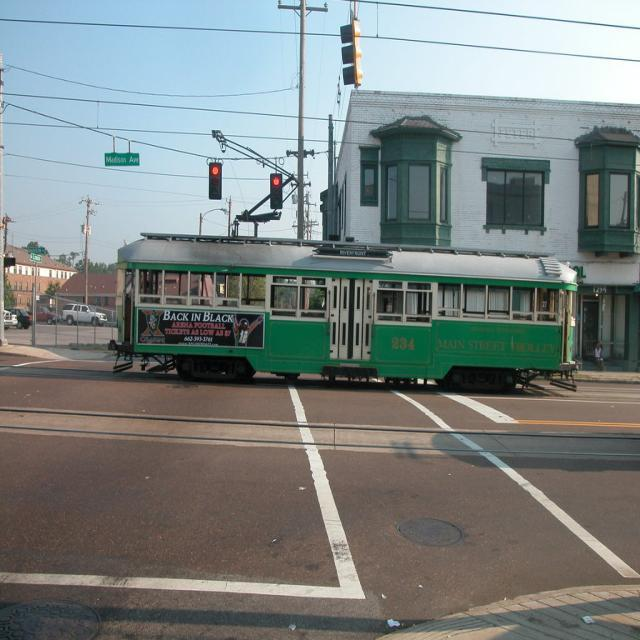off traffic light: (339, 1, 363, 90)
traffic light: (270, 158, 283, 209), (210, 160, 223, 200)
